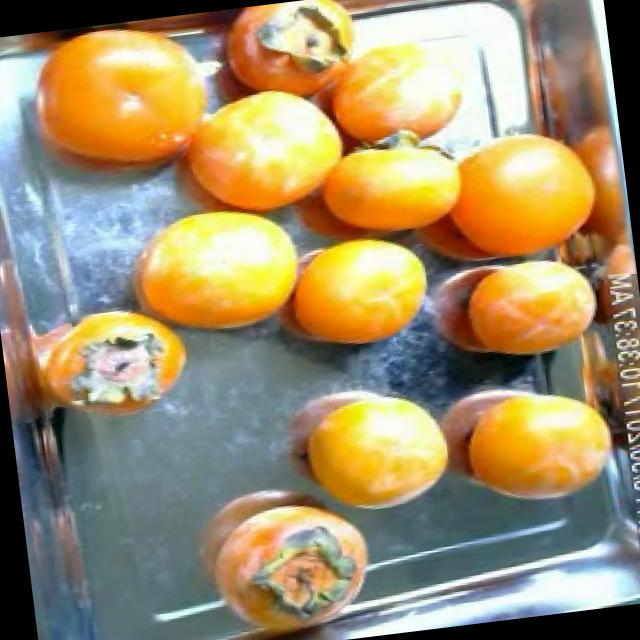Fruit: (104, 182, 330, 362), (258, 364, 474, 535), (254, 212, 456, 374), (438, 362, 634, 525), (404, 250, 622, 378)
